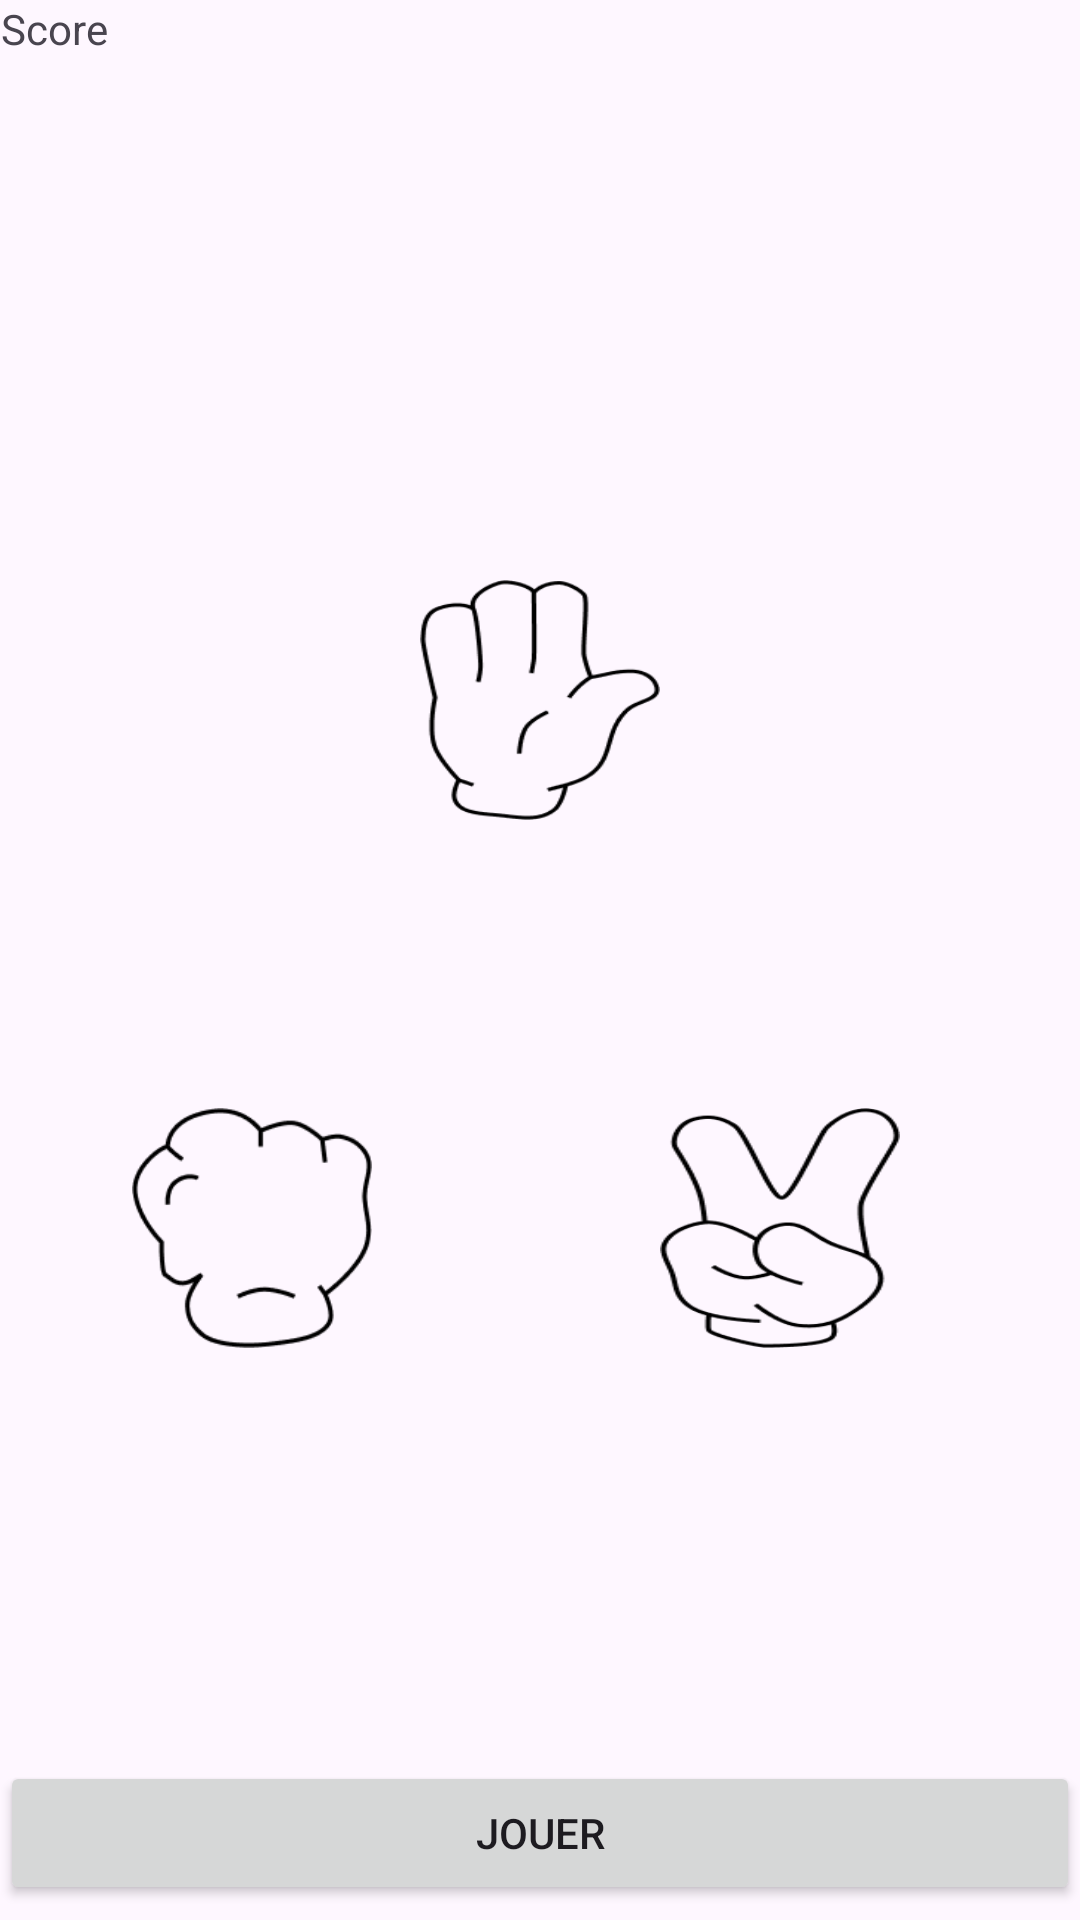

Icons on this 1080px×1920px Android screen, each with its box as (x1, y1, x2, y2):
button for paper: (420, 580, 660, 820)
button for rock: (132, 1108, 372, 1348)
button for scissors: (660, 1108, 900, 1348)
